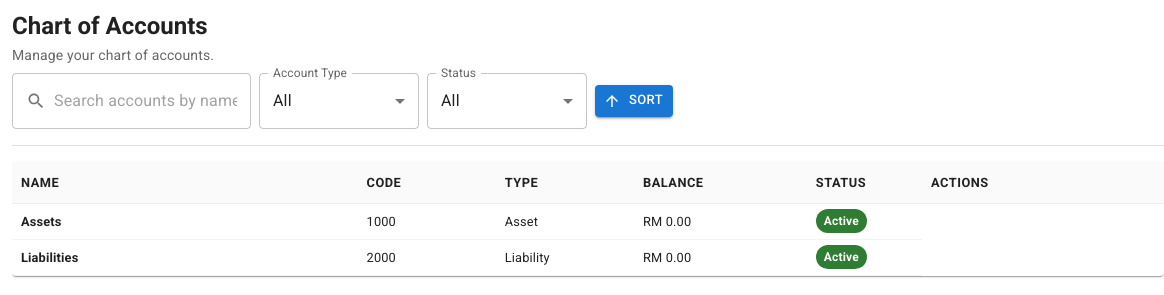
Test case: ChartOfAccountsPage rendered tree › renders the filtered tree, not the unfiltered one, and keeps ancestors
Click the dropdown named "status": (450, 101) left=441, top=91, right=460, bottom=110
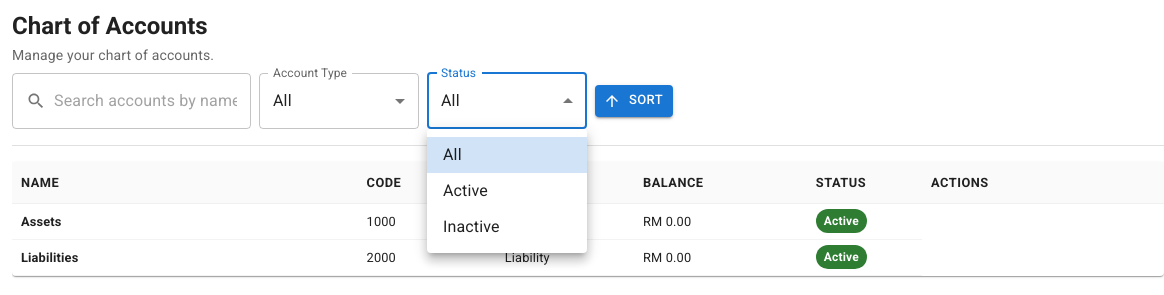
Click the option "Active": (466, 190) left=443, top=181, right=488, bottom=200
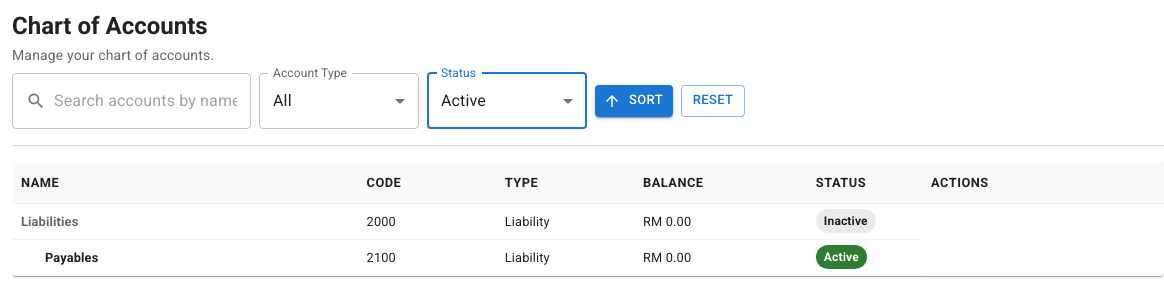
Expected: the text "2000" is shown, left=367, top=214, right=396, bottom=229
Result: the text "2100" is shown at left=367, top=250, right=396, bottom=265
Result: the text "1000" is gone
